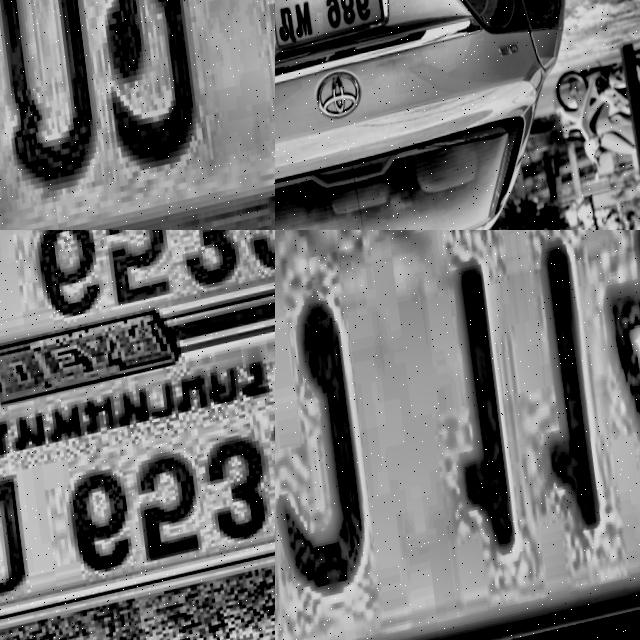license-plate: (275, 230, 640, 640), (0, 306, 275, 640), (0, 0, 275, 230), (0, 230, 275, 417), (275, 0, 399, 75)
